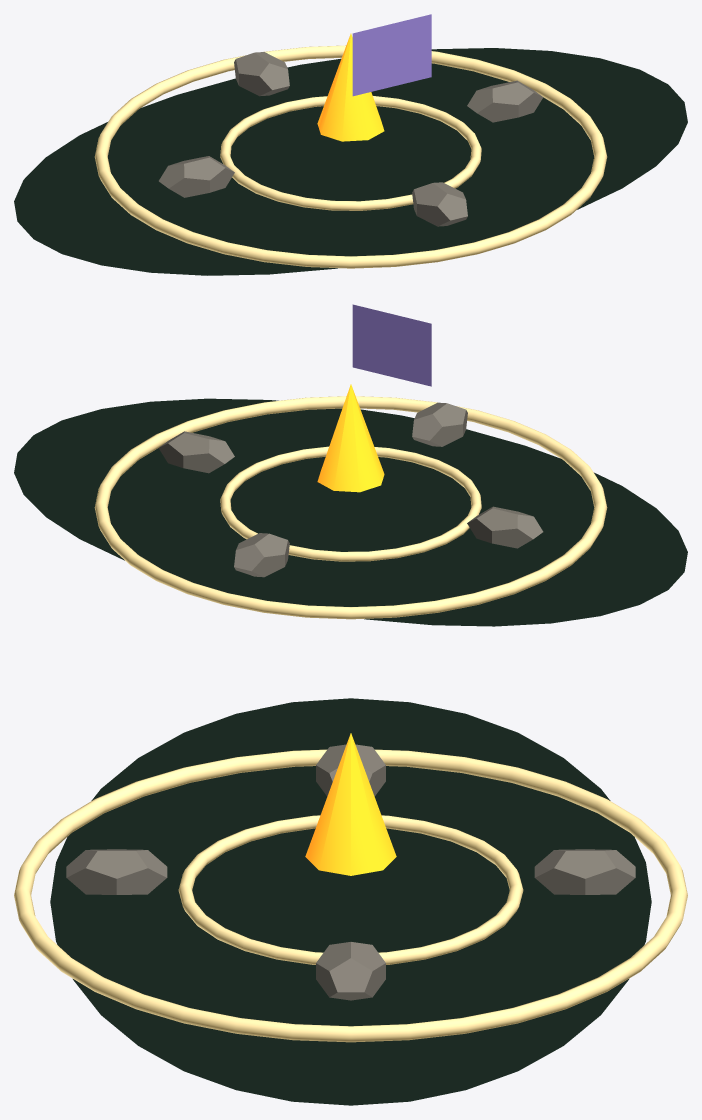
File: standing_ritual.glb
3 renders of one model, top to bottom at view 1: azimuth 30°, elevation 25°; view 2: azimuth 150°, elevation 25°; view 3: azimuth 270°, elevation 25°, orthographic. The views are drawn at different scales.
Parts seen in each view (by area): view 1: soft_ground_shadow, ritual_outer_ring, ritual_inner_ring, ritual_hanging_cloth, ritual_center_flame, stance_stone_0, stance_stone_2, stance_stone_1, stance_stone_3; view 2: soft_ground_shadow, ritual_outer_ring, ritual_inner_ring, ritual_hanging_cloth, ritual_center_flame, stance_stone_0, stance_stone_2, stance_stone_3, stance_stone_1; view 3: soft_ground_shadow, ritual_outer_ring, ritual_inner_ring, ritual_center_flame, stance_stone_1, stance_stone_3, stance_stone_0, stance_stone_2.
Boxes of the visible parts, x1,y1,x2,y2 form: soft_ground_shadow: (14,48,687,275); ritual_outer_ring: (94,45,607,268); ritual_inner_ring: (220,96,481,210); ritual_hanging_cloth: (352,14,431,96); ritual_center_flame: (317,33,384,141); stance_stone_0: (467,80,543,122); stance_stone_2: (159,156,234,197); stance_stone_1: (412,182,467,226); stance_stone_3: (234,52,289,96); soft_ground_shadow: (14,398,687,626); ritual_outer_ring: (94,396,607,619); ritual_inner_ring: (220,446,481,561); ritual_hanging_cloth: (352,304,431,386); ritual_center_flame: (317,384,384,492); stance_stone_0: (159,431,234,473); stance_stone_2: (467,506,543,548); stance_stone_3: (234,533,289,577); stance_stone_1: (412,402,467,446); soft_ground_shadow: (50,698,651,1105); ritual_outer_ring: (14,749,687,1042); ritual_inner_ring: (178,815,523,964); ritual_center_flame: (305,733,396,875); stance_stone_1: (66,849,167,894); stance_stone_3: (534,849,635,894); stance_stone_0: (316,942,385,1000); stance_stone_2: (316,744,385,796).
Bounding box in the file's own units: 3.38 × 0.86 × 2.36.
